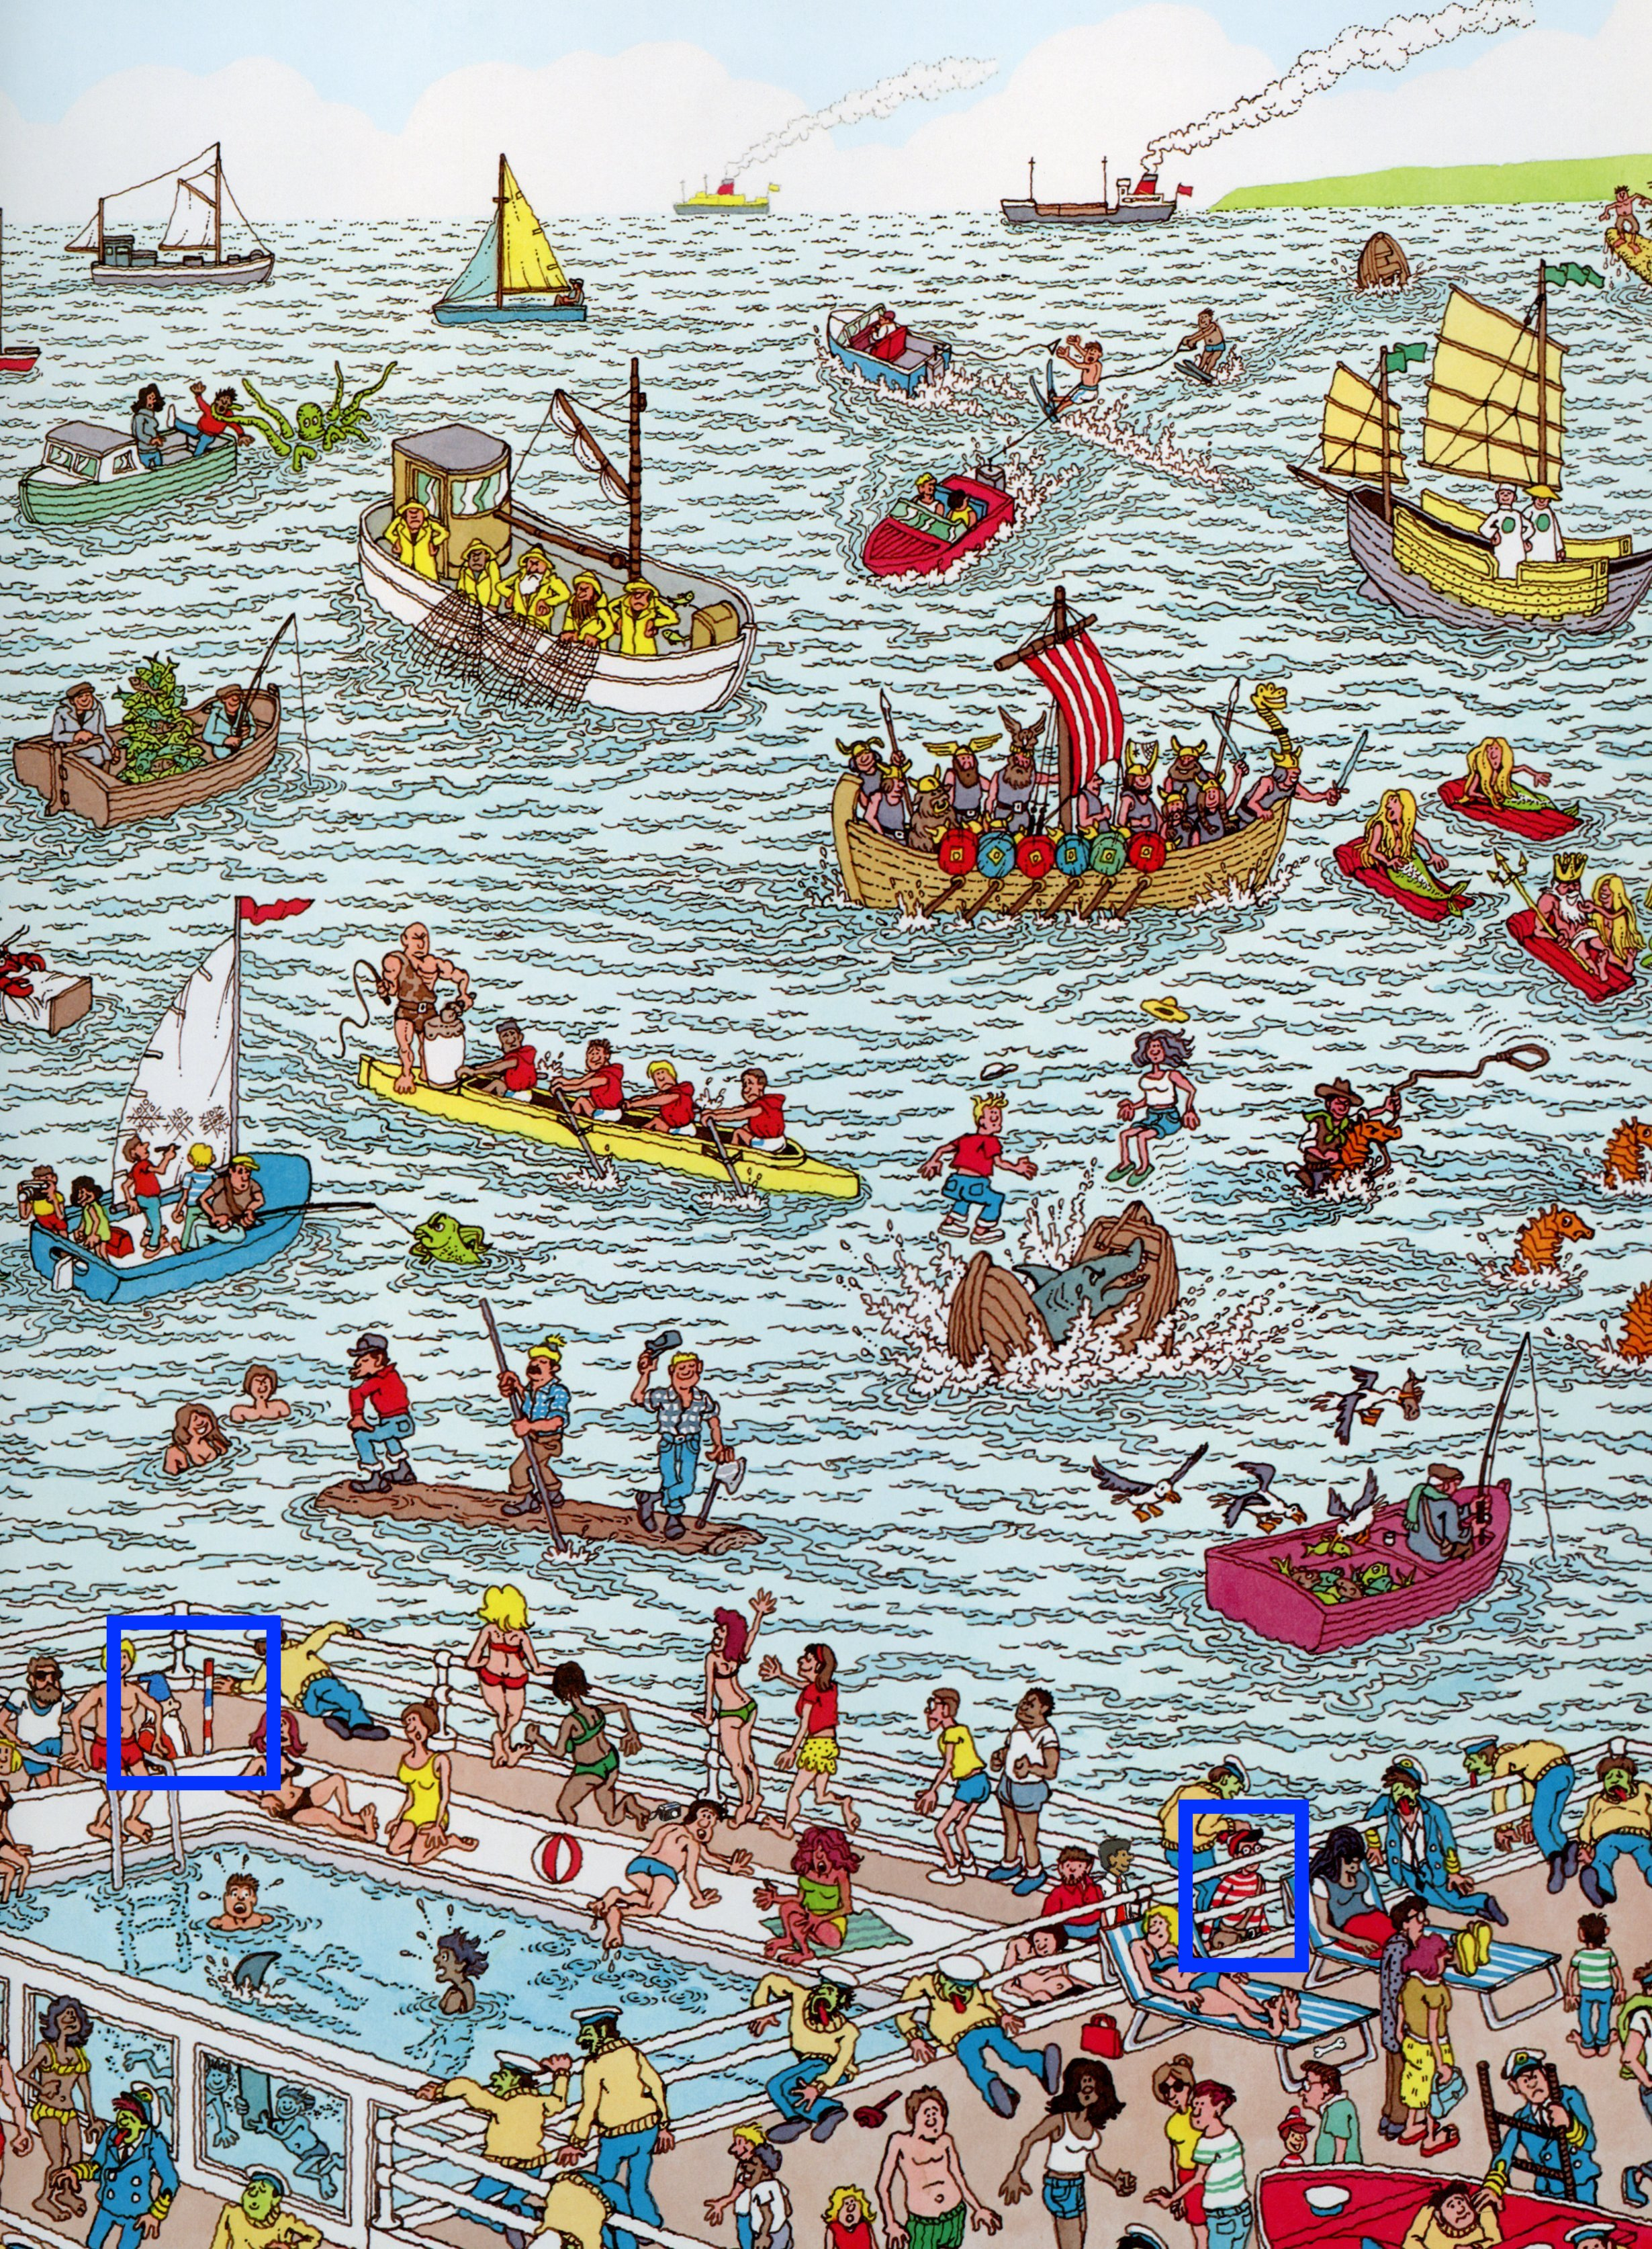white beard: (115, 1620, 279, 1793)
